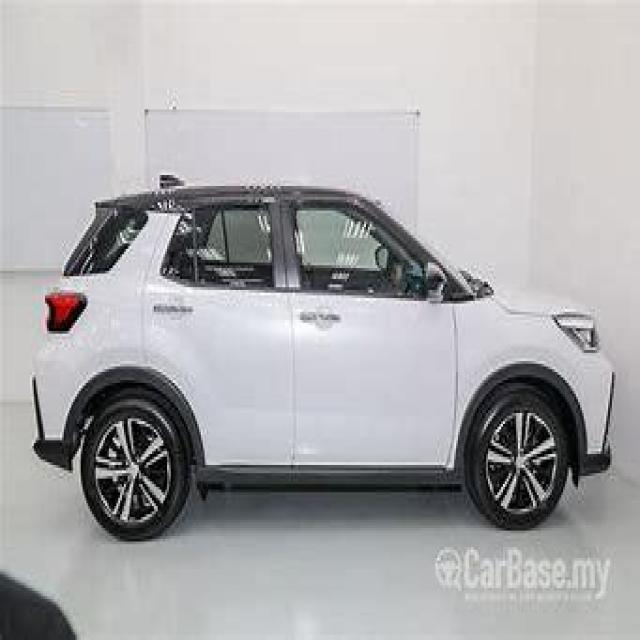PeroduaAtiva: (29, 173, 617, 541)
